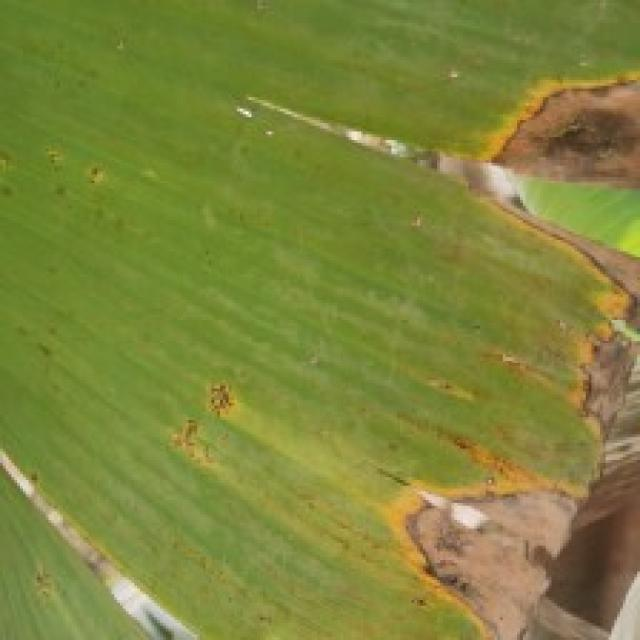Downey_mildrew: (208, 40, 640, 640), (167, 372, 274, 484), (16, 126, 130, 209)
